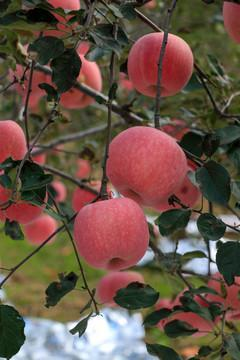apple: (107, 127, 187, 207), (74, 195, 148, 268), (126, 31, 194, 98)
